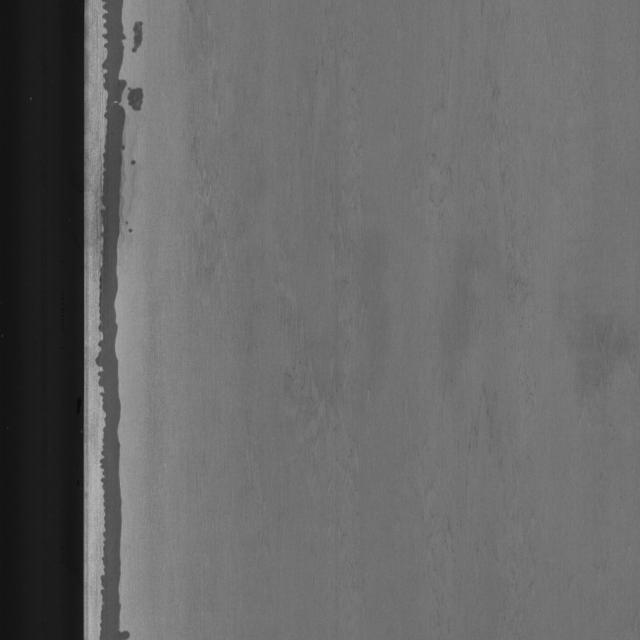welding_line: (91, 0, 160, 636)
